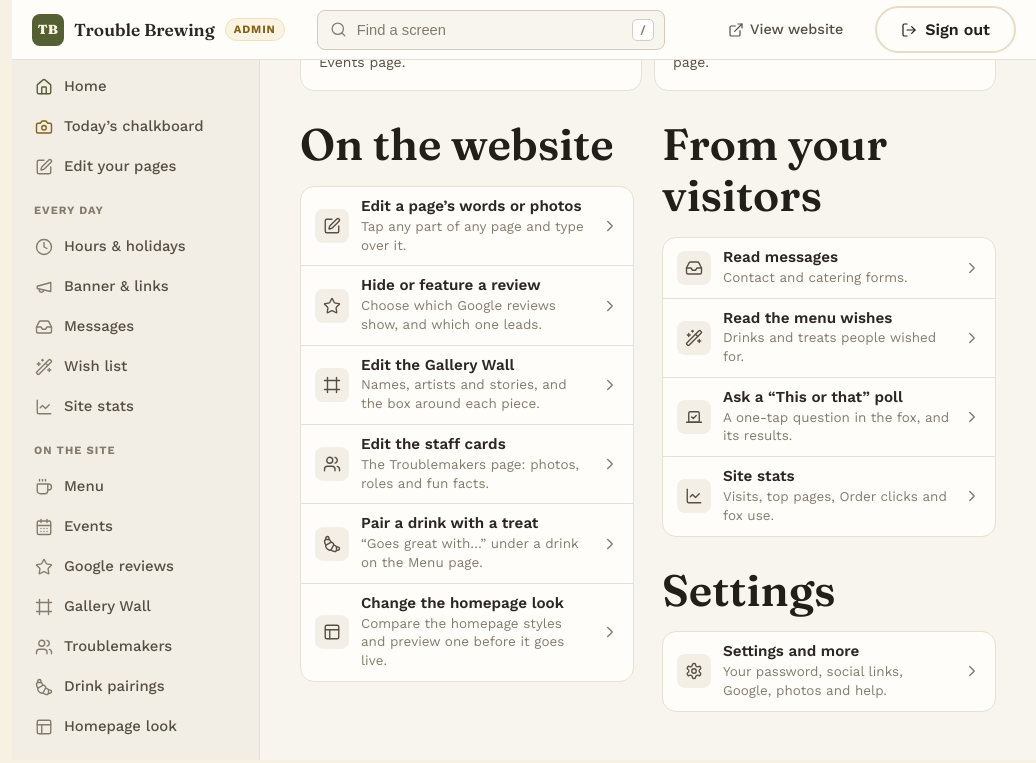
Test: admin home › the "{}" row goes to /admin/gallery and says what it changes
(page scrolled)
Click the link "Edit the Gallery Wall". click: (467, 385)
box: x1=301 y1=346 x2=633 y2=424
(page scrolled)
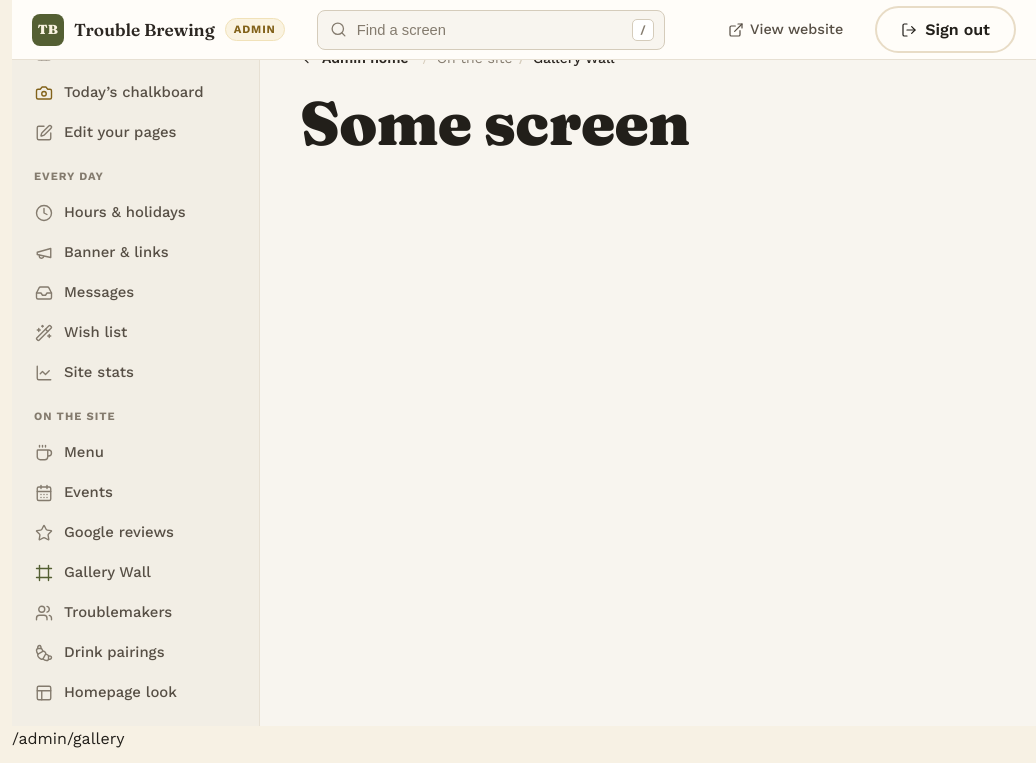
Now the text with test id "where" reads "/admin/gallery", box x1=12 y1=729 x2=124 y2=748
